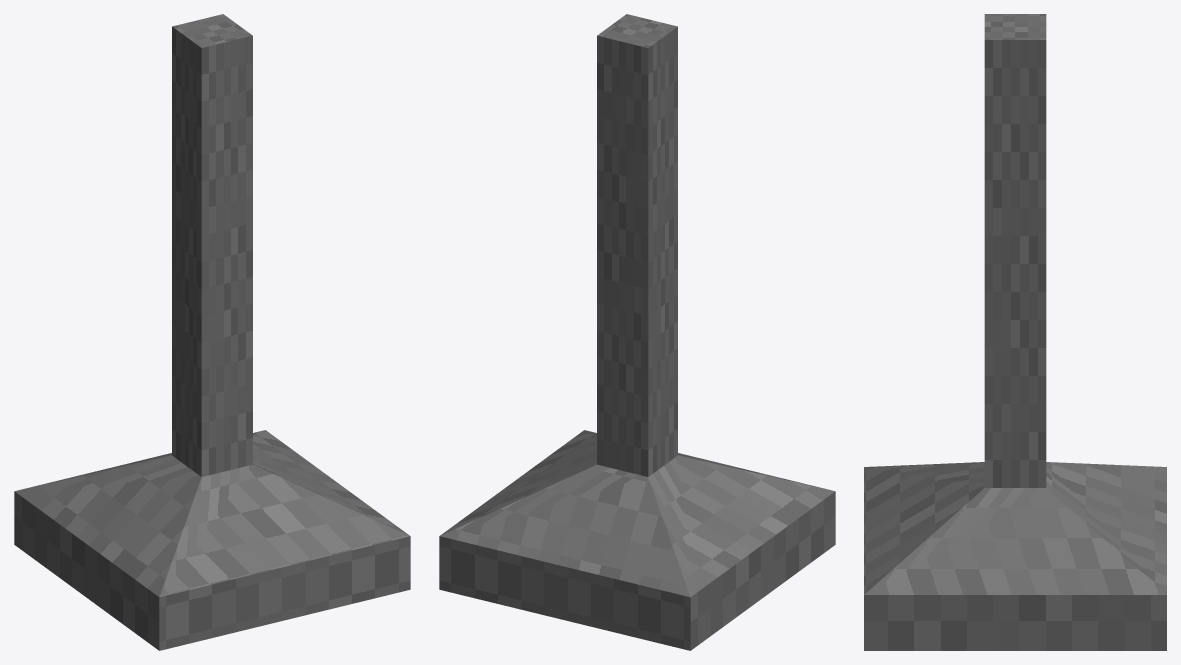
The model's file is antenna_base.obj.
The picture shows the model from 3 angles, left to right: view 1: azimuth 30°, elevation 25°; view 2: azimuth 150°, elevation 25°; view 3: azimuth 270°, elevation 25°; orthographic projection. The views are drawn at different scales.
Parts seen in each view (by area): view 1: Cube; view 2: Cube; view 3: Cube.
Boxes of the visible parts, x1,y1,x2,y2 form: Cube: (14, 14, 410, 650); Cube: (439, 14, 835, 650); Cube: (864, 14, 1166, 650).
Size of the model in its own units: 0.49 by 1 by 0.49.
